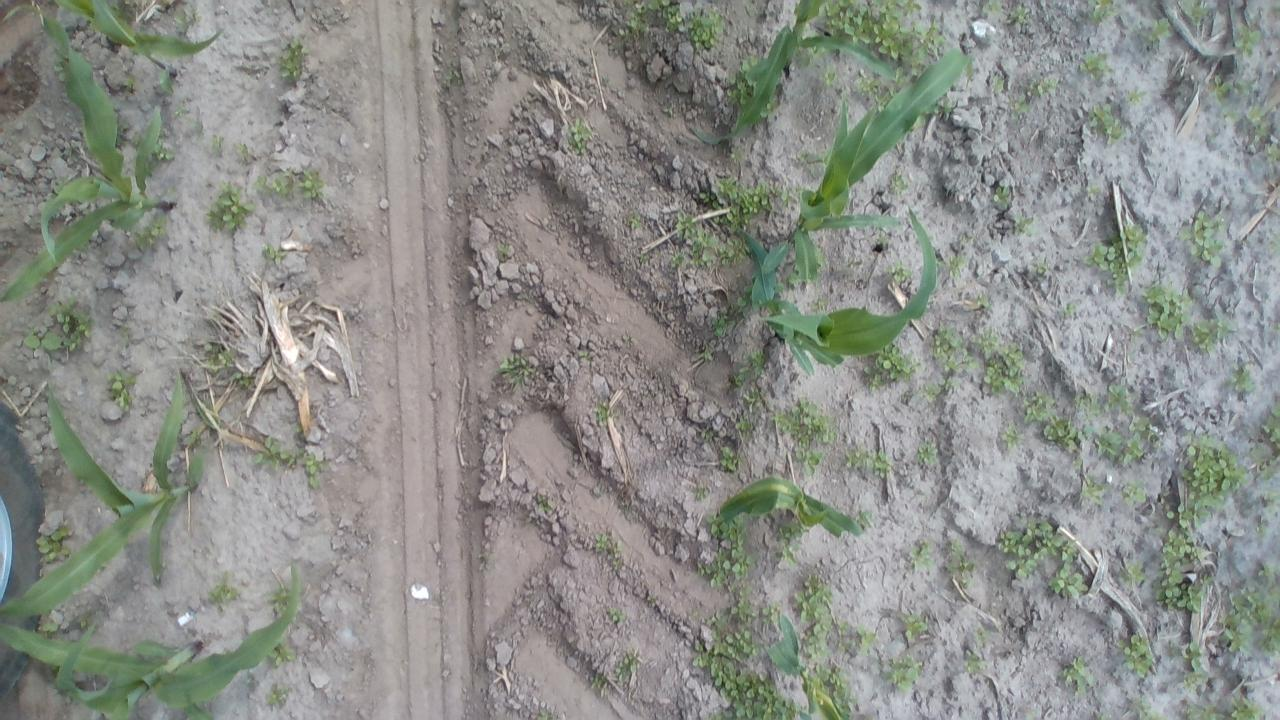Maize: (1, 22, 178, 302), (760, 49, 971, 283), (3, 382, 200, 617), (2, 587, 299, 720), (735, 205, 938, 376), (685, 0, 903, 146), (1, 2, 220, 70), (716, 473, 864, 538), (768, 612, 844, 720)
Weeds: (695, 648, 766, 718), (1007, 522, 1079, 577), (1159, 528, 1205, 614), (1186, 432, 1244, 498), (699, 521, 752, 586), (776, 399, 837, 444), (1144, 286, 1192, 334), (719, 181, 768, 225), (1187, 206, 1225, 261), (208, 183, 251, 230), (1088, 241, 1128, 290), (1096, 427, 1144, 466), (984, 345, 1020, 396), (1254, 407, 1280, 474), (794, 577, 832, 622), (1228, 587, 1270, 623), (866, 357, 916, 387), (758, 681, 796, 720), (674, 212, 706, 256), (1220, 610, 1250, 653), (826, 1, 864, 34), (946, 540, 976, 581), (1019, 390, 1054, 424), (688, 15, 724, 48), (1050, 566, 1089, 596), (1060, 658, 1096, 690), (1041, 418, 1076, 450), (888, 656, 921, 688), (856, 0, 921, 16), (1124, 633, 1150, 672), (1194, 320, 1230, 348), (1124, 222, 1148, 263), (1094, 103, 1120, 138), (256, 173, 294, 196), (932, 328, 962, 356), (804, 624, 830, 656), (777, 526, 800, 562), (278, 45, 303, 78), (1235, 22, 1260, 55), (1182, 640, 1204, 676), (110, 373, 134, 405), (724, 632, 758, 654), (794, 450, 822, 476), (1230, 698, 1263, 720), (1261, 616, 1280, 652), (716, 238, 742, 264), (872, 21, 898, 46), (999, 425, 1025, 450), (902, 615, 925, 643), (252, 439, 278, 463), (1080, 478, 1104, 504), (908, 541, 932, 567), (1166, 502, 1190, 528), (1108, 382, 1130, 410), (818, 664, 848, 684), (1232, 366, 1253, 394), (571, 119, 591, 148), (1212, 74, 1232, 103), (997, 530, 1019, 556), (49, 299, 76, 319), (663, 4, 683, 31), (1080, 52, 1110, 70), (943, 356, 979, 371), (1036, 74, 1060, 96), (844, 449, 870, 469), (498, 353, 526, 371), (1186, 706, 1222, 720), (302, 170, 322, 195), (1150, 19, 1170, 44), (24, 334, 59, 348), (304, 452, 322, 479), (220, 573, 238, 600), (36, 536, 63, 554), (917, 442, 939, 464), (618, 18, 642, 38), (1015, 212, 1033, 238), (1120, 485, 1146, 503), (731, 602, 753, 622), (856, 628, 878, 648), (266, 686, 287, 706), (720, 447, 736, 472), (626, 1, 670, 10), (174, 12, 192, 34), (1260, 142, 1278, 164), (1127, 413, 1149, 431), (874, 450, 888, 478), (892, 260, 908, 284), (1009, 92, 1028, 112), (1094, 1, 1112, 22), (156, 74, 174, 94), (231, 142, 249, 162), (768, 183, 792, 198), (964, 652, 982, 672), (278, 446, 296, 465), (275, 646, 294, 664), (748, 350, 766, 369), (150, 217, 168, 235), (1010, 4, 1030, 20), (1126, 86, 1146, 102), (992, 186, 1012, 202), (949, 255, 964, 276), (57, 312, 71, 334), (623, 212, 642, 228), (1246, 102, 1260, 123), (75, 314, 91, 332), (1192, 5, 1208, 23), (922, 378, 946, 390), (860, 78, 880, 92), (711, 316, 726, 334), (736, 417, 751, 434), (728, 369, 743, 386), (264, 242, 278, 260), (52, 526, 67, 542), (158, 146, 172, 162), (892, 174, 906, 190), (1086, 184, 1100, 200), (1035, 261, 1051, 275), (596, 398, 608, 416), (212, 136, 224, 154), (538, 496, 550, 514), (594, 534, 608, 548), (606, 544, 620, 558), (610, 608, 624, 621), (825, 70, 836, 86), (622, 652, 636, 664), (234, 372, 248, 384), (996, 76, 1006, 92), (1064, 302, 1076, 315), (696, 488, 708, 500), (70, 330, 80, 344), (43, 622, 59, 630), (209, 591, 220, 602), (702, 428, 713, 439), (646, 594, 656, 606), (536, 710, 546, 720), (612, 560, 620, 570)
